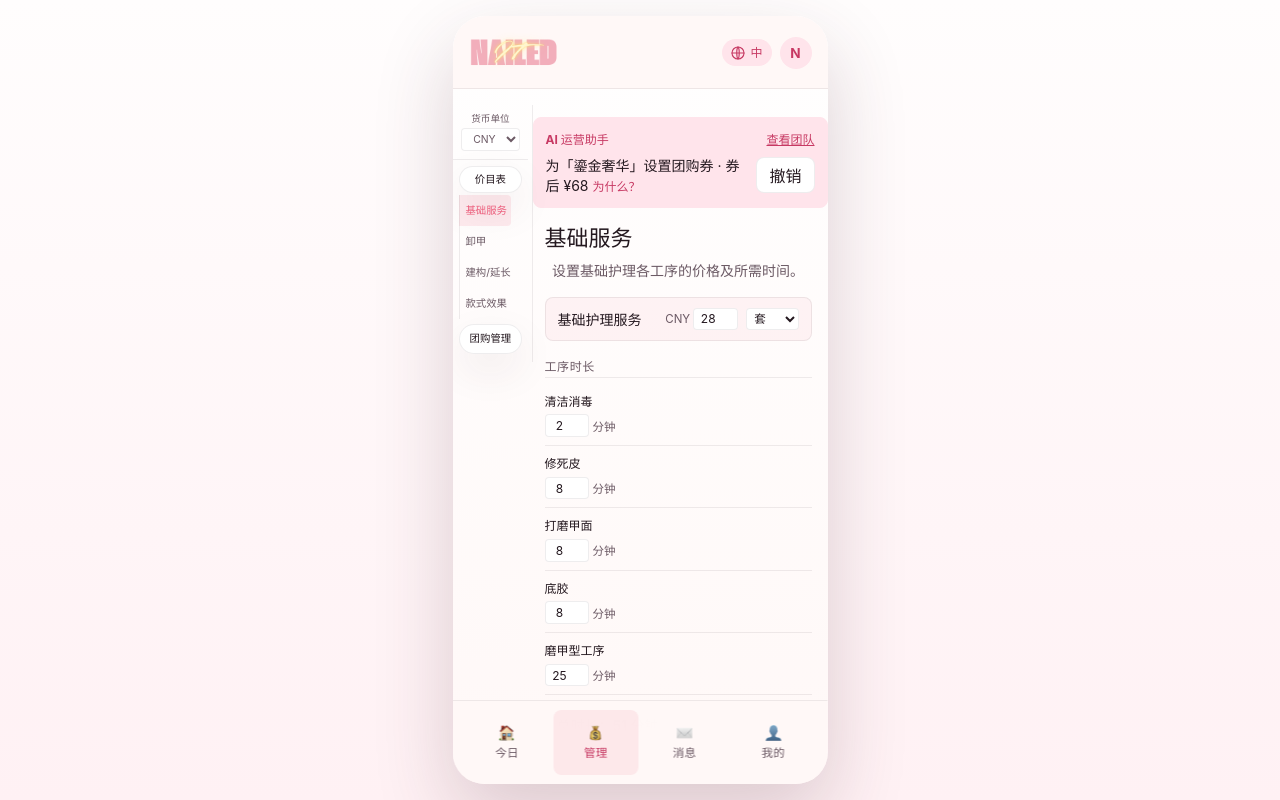
MerchantManagePage › keeps service groups collapsed by default and expands on click
Check: the number field named "基础护理服务 单价" is shown, box [693, 308, 738, 330]
Click the button "团购管理": (490, 339) [459, 324, 522, 354]
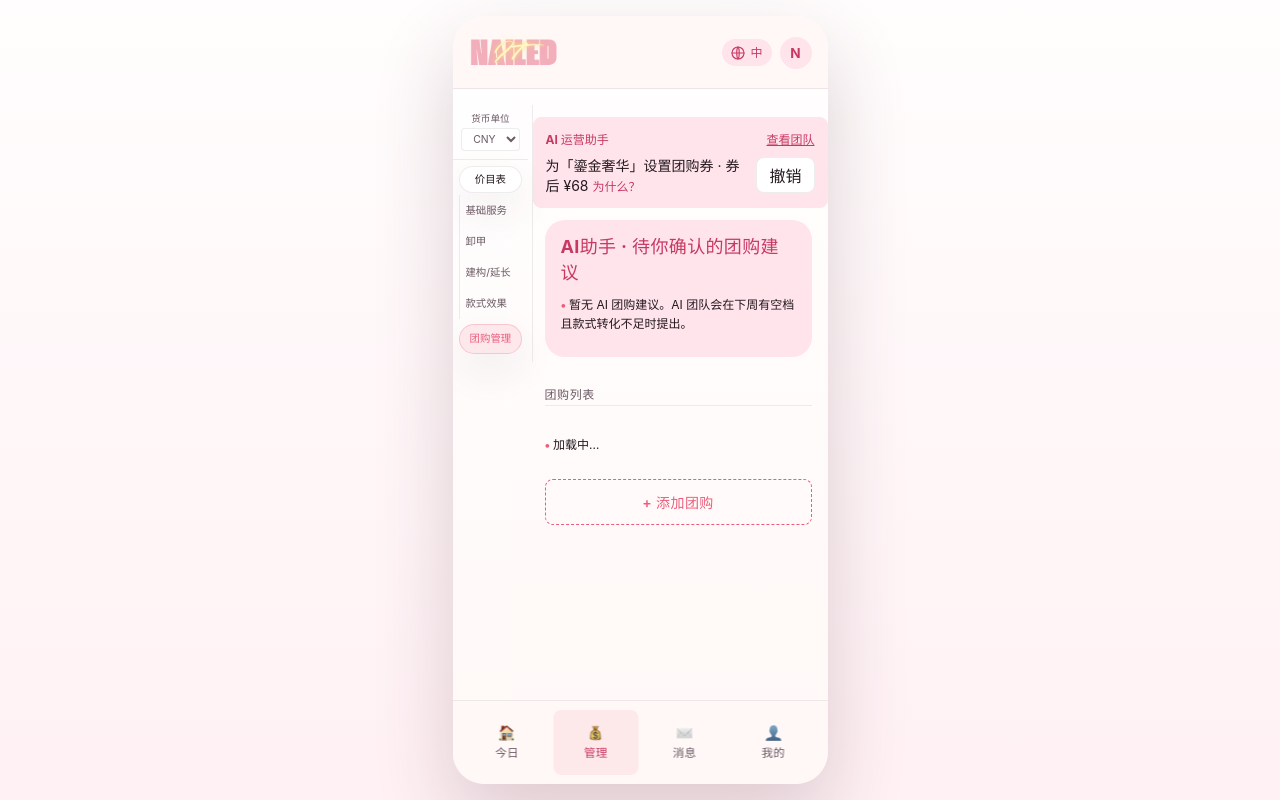
Click the button "+ 添加团购": (678, 502) [544, 479, 812, 525]
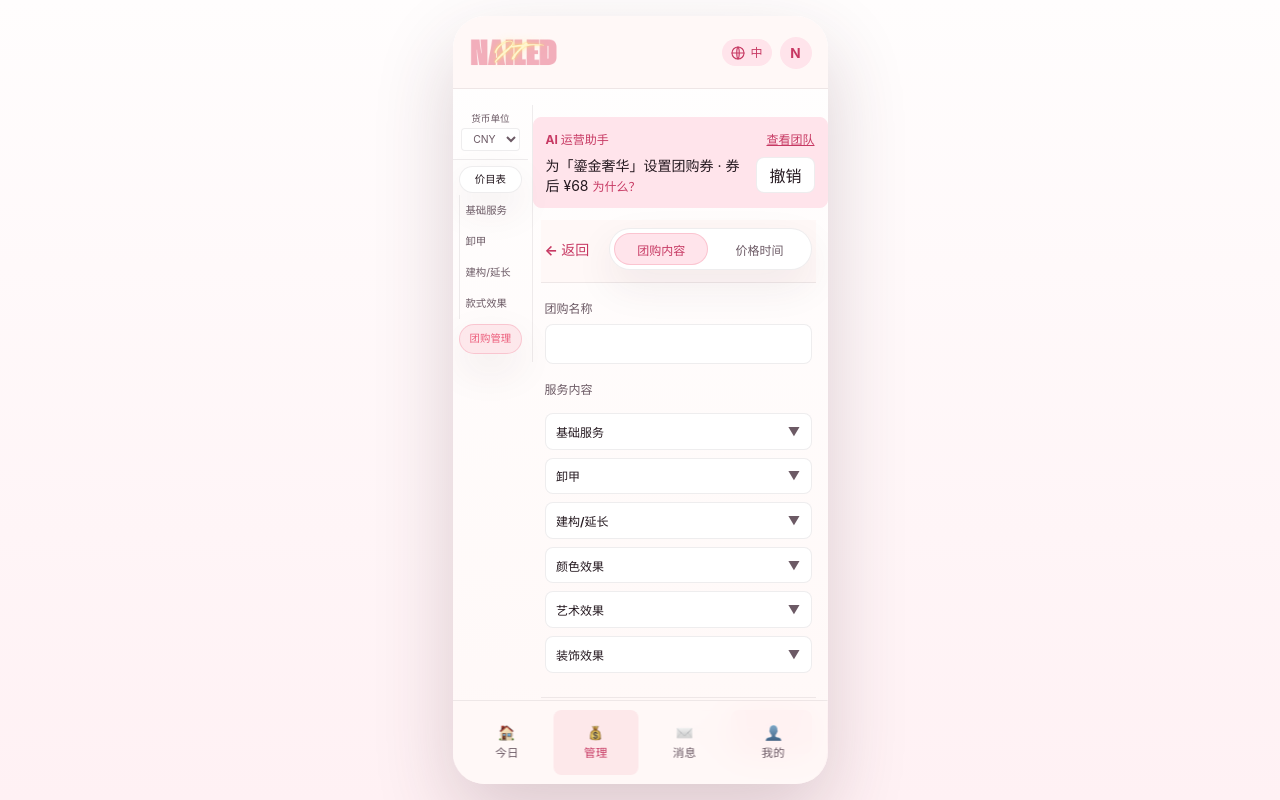
Check: the text labelled "基础护理服务" is not shown
Click the button "基础服务 ▼": (580, 432) [546, 414, 810, 449]
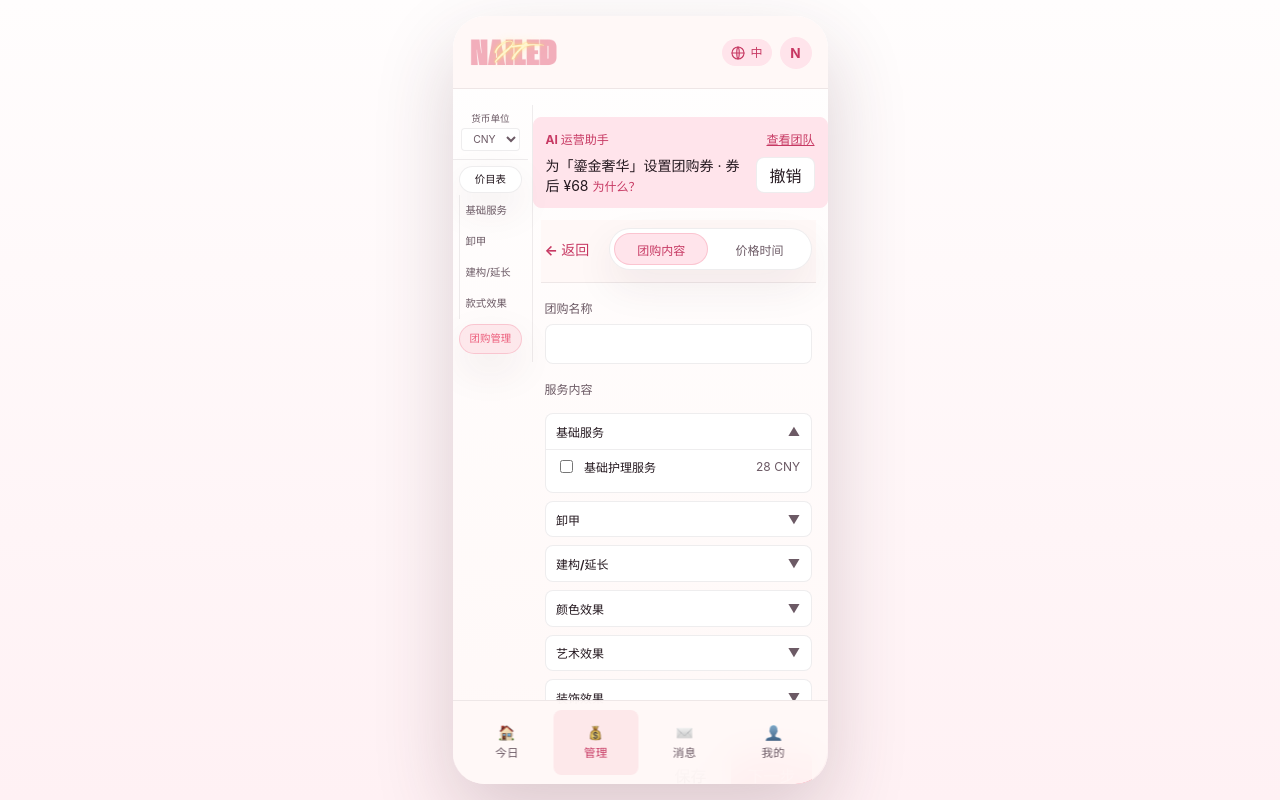
Check: the button "基础服务 ▲" is expanded, box [546, 414, 810, 449]
Check: the checkbox labelled "基础护理服务" is shown, box [560, 460, 573, 473]
